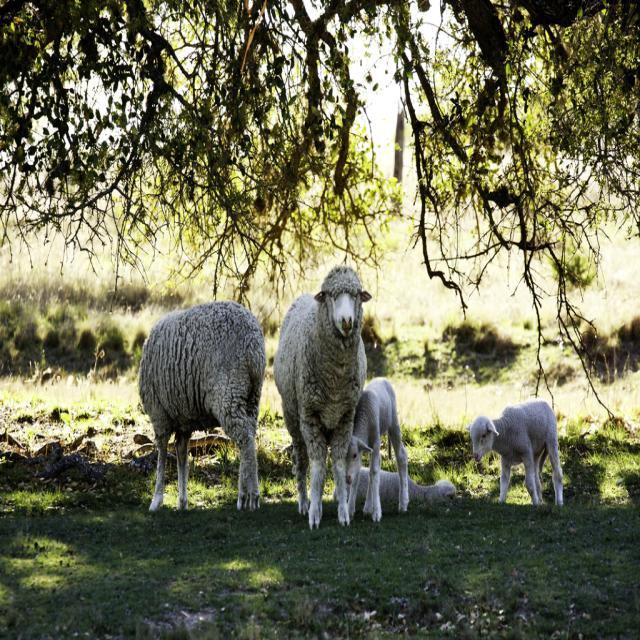sheep: (138, 300, 262, 510), (273, 266, 371, 527), (465, 402, 562, 506), (347, 385, 406, 521), (357, 466, 453, 507)
